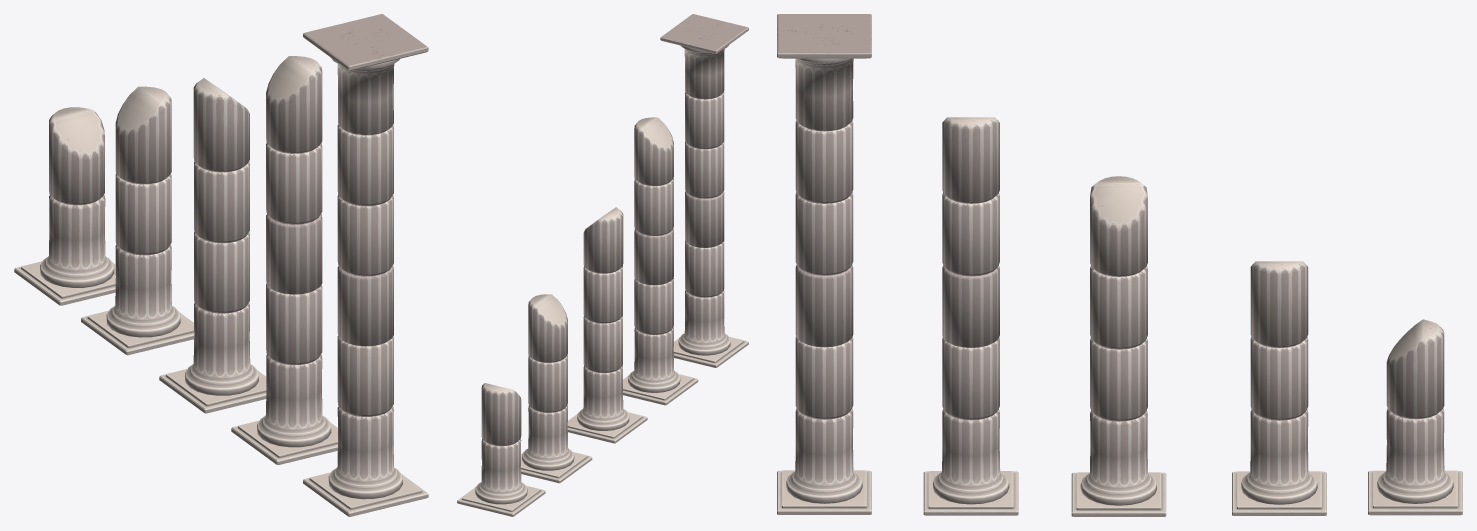
The model's file is columns.glb.
3 renders of one model, left to right at view 1: azimuth 30°, elevation 25°; view 2: azimuth 150°, elevation 25°; view 3: azimuth 270°, elevation 25°, orthographic. The views are drawn at different scales.
Visible parts, largest first — view 1: column5, column4, column3, column2, column1; view 2: column5, column4, column3, column2, column1; view 3: column5, column4, column3, column2, column1.
Part boxes in pixels (bbox=[...]): column5: bbox=[303, 14, 428, 516]; column4: bbox=[231, 56, 337, 464]; column3: bbox=[159, 78, 266, 413]; column2: bbox=[81, 86, 194, 355]; column1: bbox=[14, 107, 115, 305]; column5: bbox=[660, 14, 748, 367]; column4: bbox=[623, 117, 698, 405]; column3: bbox=[567, 207, 647, 443]; column2: bbox=[521, 294, 592, 483]; column1: bbox=[457, 383, 545, 516]; column5: bbox=[777, 14, 871, 514]; column4: bbox=[923, 117, 1018, 515]; column3: bbox=[1071, 176, 1166, 516]; column2: bbox=[1232, 261, 1326, 515]; column1: bbox=[1368, 319, 1462, 515].
Size of what is drawn, in the model's own units: 0.584 by 3.15 by 4.22.
Materials: 1 (1 with a texture image).
